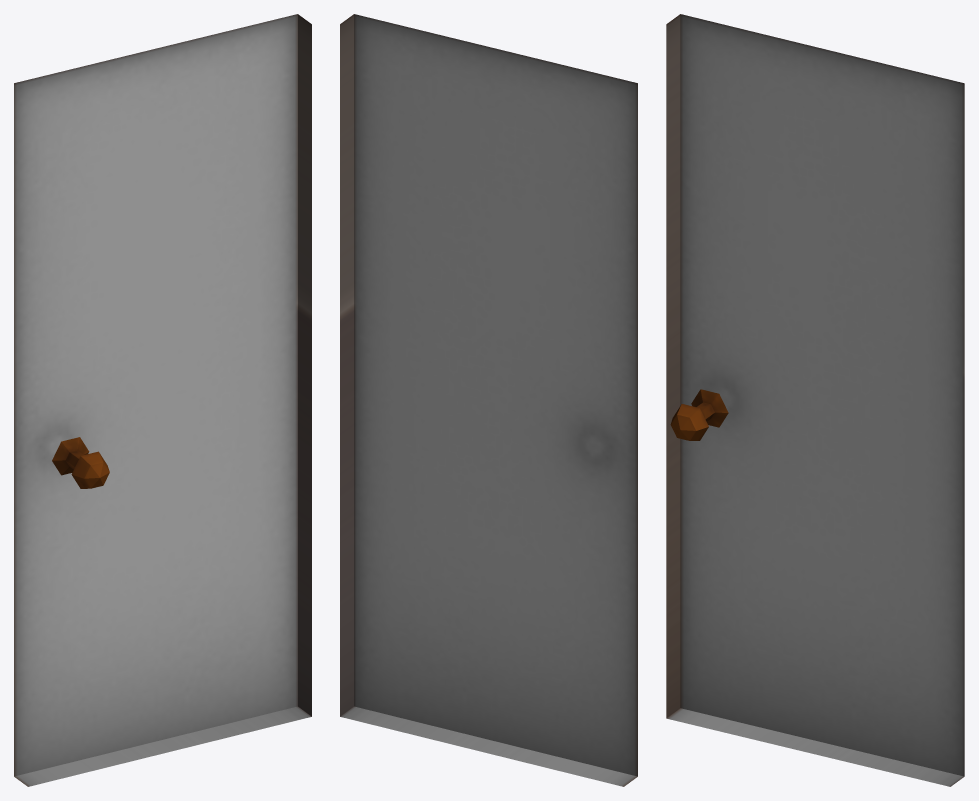
The model's file is bar_door.glb.
3 views of the same model, side by side, from view 1: azimuth 30°, elevation 25°; view 2: azimuth 150°, elevation 25°; view 3: azimuth 330°, elevation 25° (orthographic).
Parts seen in each view (by area): view 1: Bar_mesh; view 2: Bar_mesh; view 3: Bar_mesh.
Boxes of the visible parts, <box> form: Bar_mesh: <box>14,14,311,786</box>; Bar_mesh: <box>340,14,637,786</box>; Bar_mesh: <box>666,14,964,786</box>.
Size of the model in its own units: 2.53 by 5.9 by 0.6655.
1 material, 1 textured.
